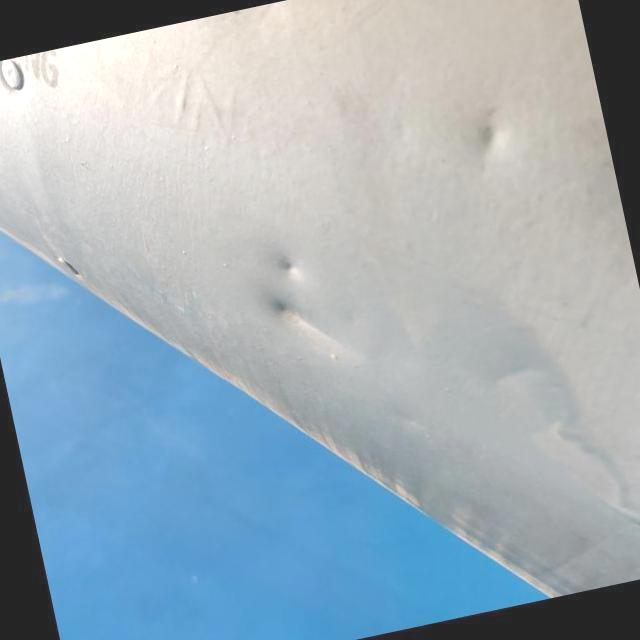dent: (262, 278, 361, 364), (451, 98, 522, 170), (269, 250, 311, 284)
